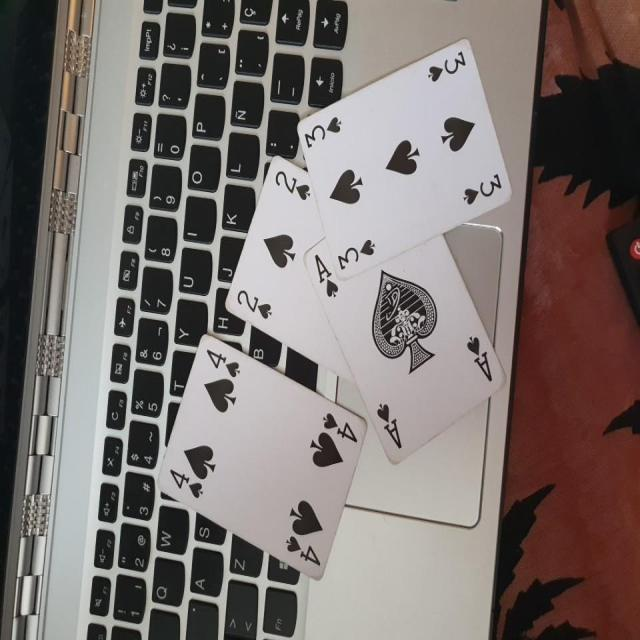2 Spades: (224, 159, 376, 351)
3 Spades: (292, 42, 518, 282)
4 Spades: (142, 329, 370, 592)
A Spades: (309, 206, 510, 475)
